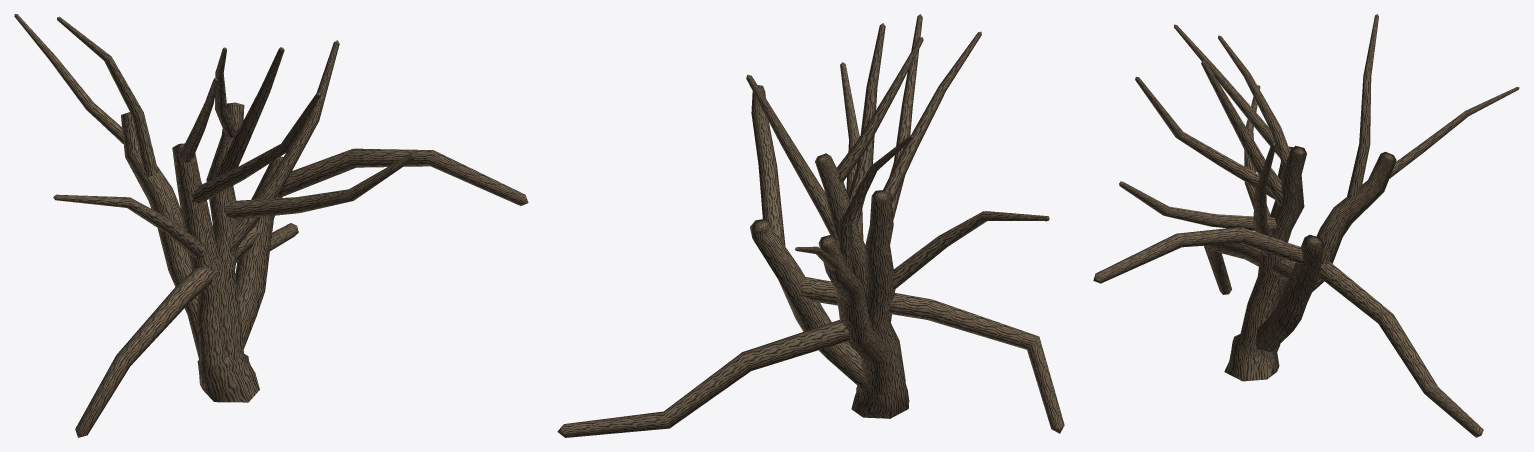
File: dead_standing-b.lod1.glb
3 renders of one model, left to right at view 1: azimuth 30°, elevation 25°; view 2: azimuth 150°, elevation 25°; view 3: azimuth 270°, elevation 25°, orthographic. The views are drawn at different scales.
Parts seen in each view (by area): view 1: bark; view 2: bark; view 3: bark.
Part boxes in pixels (left/top/right/bottom): bark: left=14, top=14, right=528, bottom=437; bark: left=557, top=14, right=1064, bottom=437; bark: left=1093, top=14, right=1519, bottom=437.
Size of the model in its own units: 9.44 by 8.5 by 10.11.
1 material, 1 textured.
